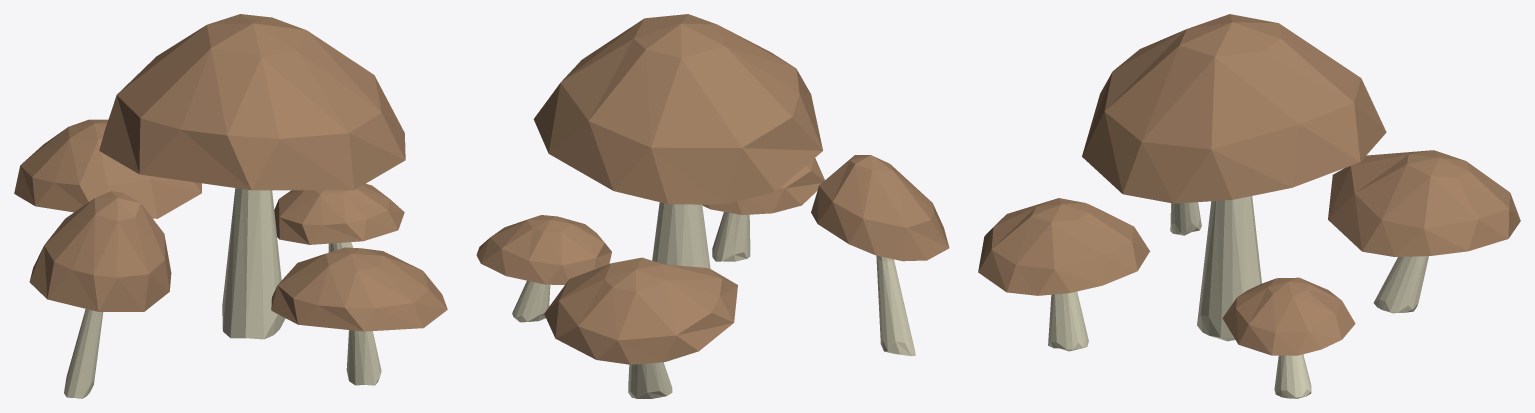
Rendered from Pilzansammlung_Mesh.fbx.
3 views of the same model, side by side, from view 1: azimuth 30°, elevation 25°; view 2: azimuth 150°, elevation 25°; view 3: azimuth 270°, elevation 25° (orthographic). The views are drawn at different scales.
Visible parts, largest first — view 1: Pilzansammlung; view 2: Pilzansammlung; view 3: Pilzansammlung.
Boxes of the visible parts, x1,y1,x2,y2 form: Pilzansammlung: [14, 14, 447, 398]; Pilzansammlung: [476, 14, 949, 398]; Pilzansammlung: [978, 14, 1520, 398].
Size of the model in its own units: 7.14 by 5.09 by 8.04.
